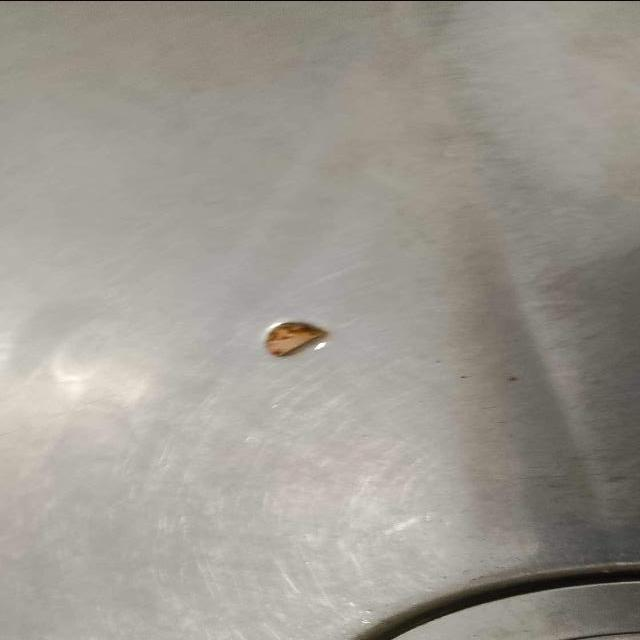Pathological: (1, 2, 637, 637)
Sharps: (263, 319, 327, 356)
